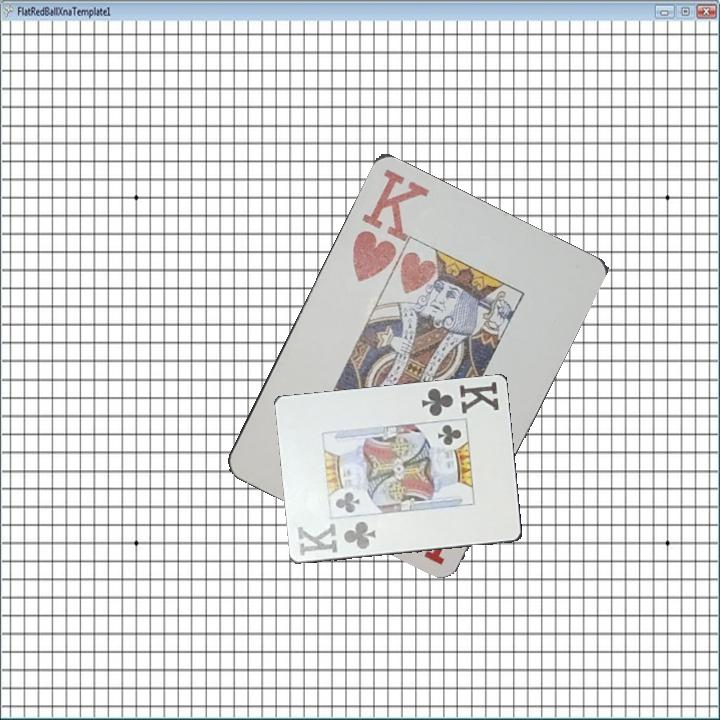Kc: (294, 517, 379, 558), (418, 378, 502, 419)
Kh: (348, 164, 430, 285)
